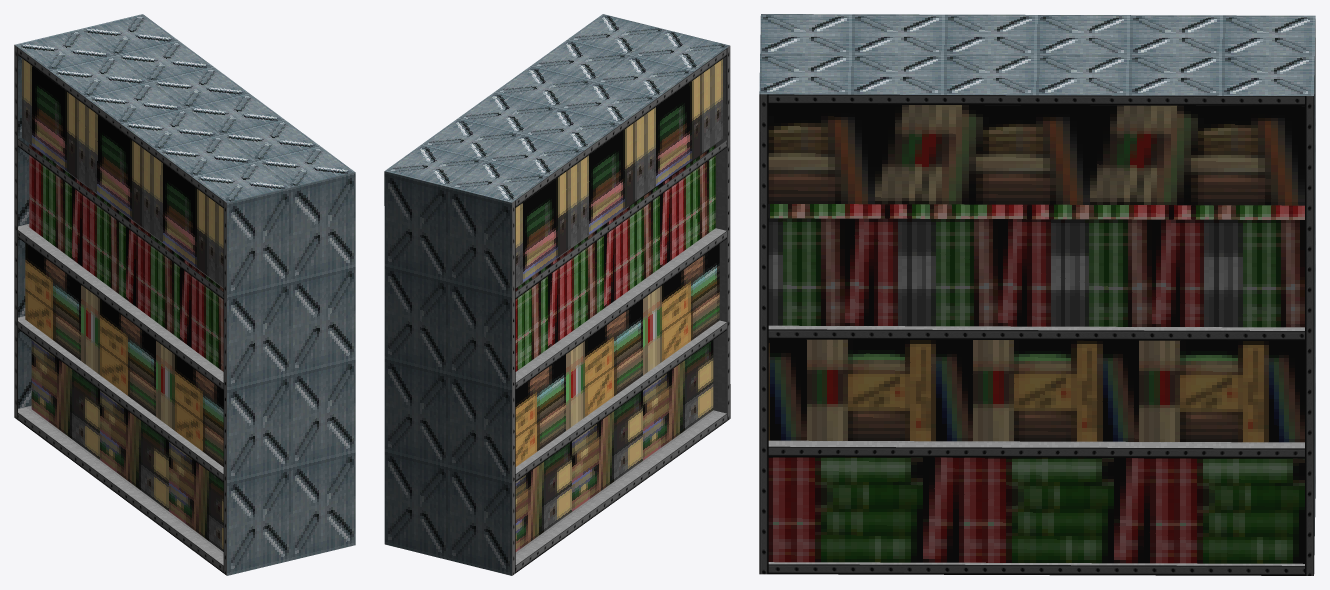
Rendered from primary_188.glb.
The picture shows the model from 3 angles, left to right: view 1: azimuth 30°, elevation 25°; view 2: azimuth 150°, elevation 25°; view 3: azimuth 270°, elevation 25°; orthographic projection. The views are drawn at different scales.
Parts seen in each view (by area): view 1: Object; view 2: Object; view 3: Object.
Part boxes in pixels (x1=…): Object: x1=14, y1=14, x2=355, y2=575; Object: x1=384, y1=14, x2=730, y2=575; Object: x1=759, y1=14, x2=1315, y2=575.
Size of the model in its own units: 0.9094 by 2.48 by 2.6.
16 materials, 16 textured.
